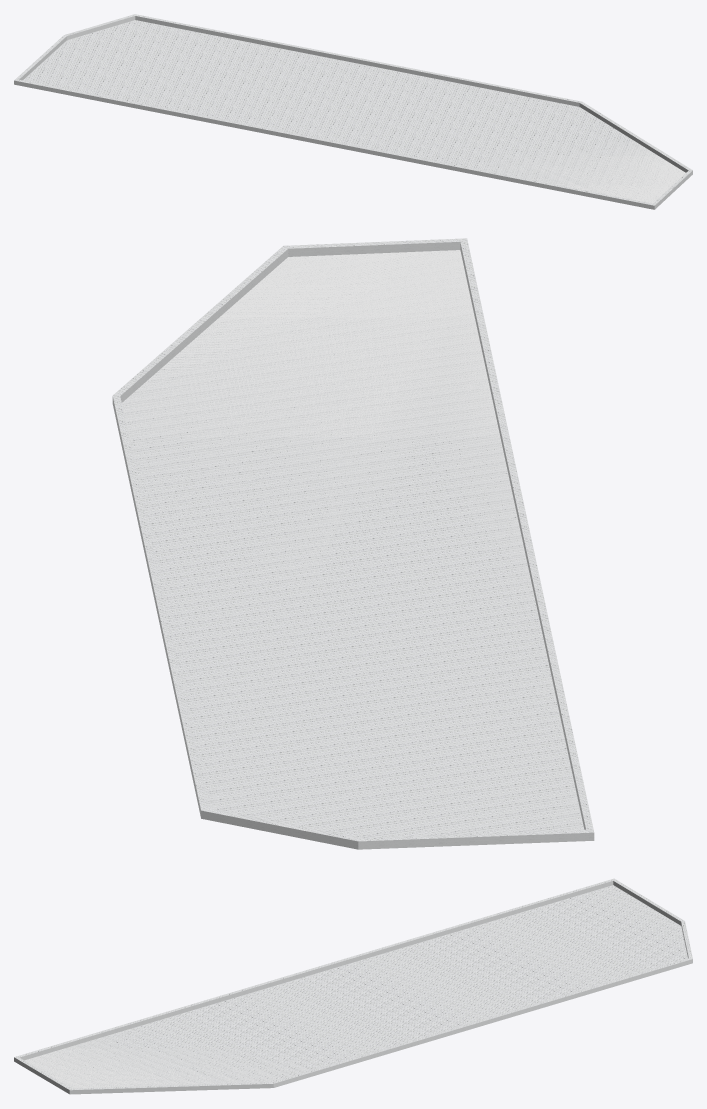
File: clohbvupp03714p02segkgrtj_0.glb
The picture shows the model from 3 angles, top to bottom: view 1: azimuth 30°, elevation 25°; view 2: azimuth 150°, elevation 25°; view 3: azimuth 270°, elevation 25°; orthographic projection. The views are drawn at different scales.
Visible parts, largest first — view 1: mesh_Brick, mesh_CityEnginePBRShader; view 2: mesh_Brick, mesh_CityEnginePBRShader; view 3: mesh_Brick, mesh_CityEnginePBRShader.
Boxes of the visible parts, x1=… form: mesh_Brick: x1=14, y1=14, x2=692, y2=209; mesh_CityEnginePBRShader: x1=470, y1=141, x2=685, y2=203; mesh_Brick: x1=112, y1=238, x2=594, y2=849; mesh_CityEnginePBRShader: x1=122, y1=250, x2=582, y2=830; mesh_Brick: x1=14, y1=878, x2=692, y2=1094; mesh_CityEnginePBRShader: x1=25, y1=1027, x2=361, y2=1088.
Size of the model in its own units: 63.99 by 0.6 by 86.7.
2 materials, 1 textured.
